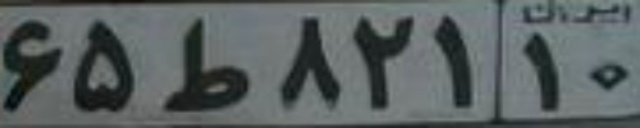0: (583, 60, 629, 92)
1: (435, 14, 474, 107), (521, 32, 559, 110)
2: (352, 14, 418, 108)
5: (70, 19, 138, 112)
6: (2, 19, 62, 112)
8: (275, 15, 341, 111)
taa: (161, 17, 250, 111)
